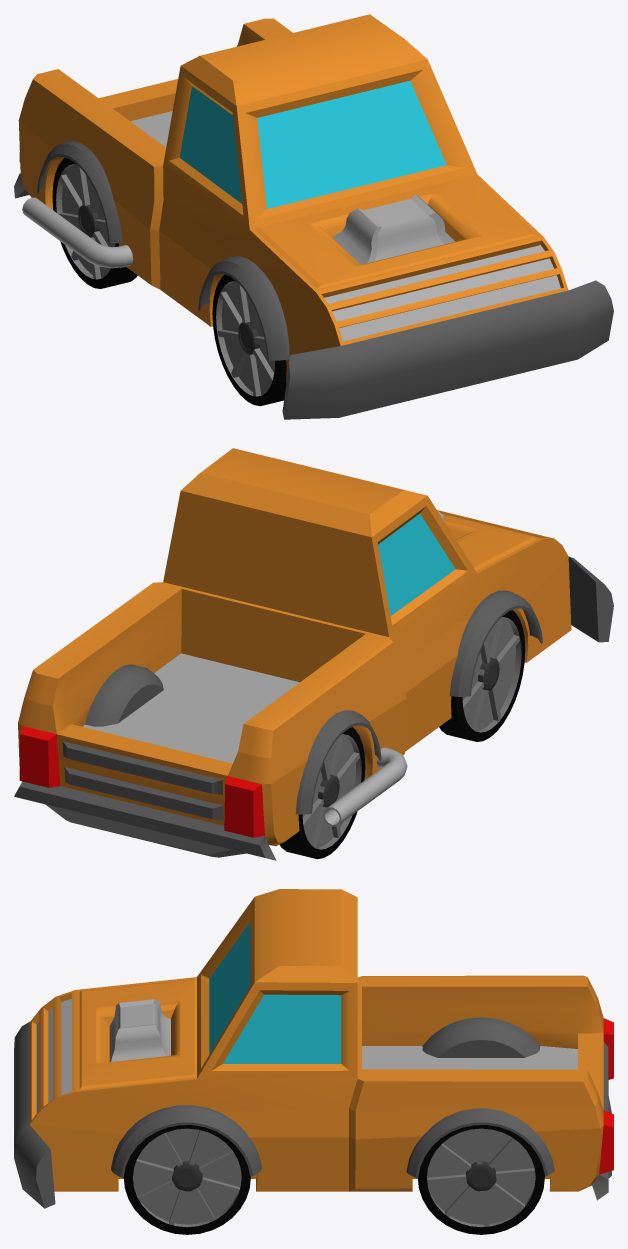
File: car 4.fbx
The picture shows the model from 3 angles, top to bottom: view 1: azimuth 30°, elevation 25°; view 2: azimuth 150°, elevation 25°; view 3: azimuth 270°, elevation 25°; orthographic projection. The views are drawn at different scales.
Visible parts, largest first — view 1: Car 4, Cylinder.017, Cylinder.021, Cylinder.018; view 2: Car 4, Cylinder.017, Cylinder.021, Cylinder.018; view 3: Car 4, Cylinder.019, Cylinder.020, Cylinder.021.
Boxes of the visible parts, box(x1,y1,x2,y2) form: Car 4: box(14, 14, 613, 419); Cylinder.017: box(212, 275, 286, 406); Cylinder.021: box(37, 141, 289, 360); Cylinder.018: box(52, 157, 137, 288); Car 4: box(14, 448, 613, 860); Cylinder.017: box(439, 610, 525, 741); Cylinder.021: box(295, 590, 542, 814); Cylinder.018: box(279, 727, 365, 859); Car 4: box(14, 889, 613, 1208); Cylinder.019: box(123, 1125, 250, 1234); Cylinder.020: box(418, 1125, 544, 1234); Cylinder.021: box(111, 1105, 554, 1177).
Bounding box in the file's own units: 286 × 231 × 497.
